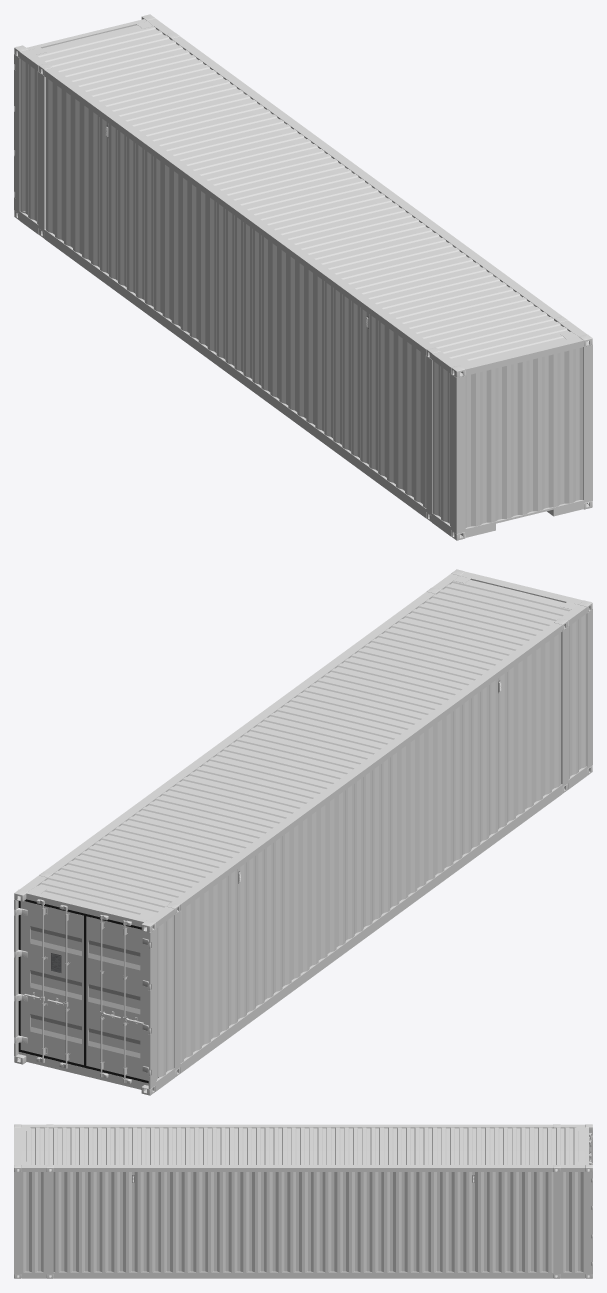
File: Container_45ftHC.fbx
The picture shows the model from 3 angles, top to bottom: view 1: azimuth 30°, elevation 25°; view 2: azimuth 150°, elevation 25°; view 3: azimuth 270°, elevation 25°; orthographic projection. The views are drawn at different scales.
Visible parts, largest first — view 1: Body_Wall_Xn, Body_Roof, Body_Wall_Yn, Rail_Side_Xn_Top, Rail_Side_Xn_Bottom, Rail_Side_Xp_Top, Post_Corner_XnYn, Post_Corner_XpYn, Rail_End_Yn_Top, Post_Intermediate_XnYp, Post_Intermediate_XnYn, Post_Corner_XnYp (+1 smaller); view 2: Body_Wall_Xn, Body_Roof, Door_L, Door_R, Rail_Side_Xn_Top, Rail_Side_Xn_Bottom, Rail_Side_Xp_Top, Post_Intermediate_XnYn, Post_Corner_XnYp, Post_Intermediate_XnYp, Post_Corner_XnYn, Rail_End_Yp_Top (+4 smaller); view 3: Body_Wall_Xp, Body_Roof, Rail_Side_Xp_Bottom, Rail_Side_Xp_Top, Rail_Side_Xn_Top, Post_Corner_XpYn, Post_Intermediate_XpYn, Post_Intermediate_XpYp, Post_Corner_XpYp, Rail_End_Yn_Top.
Part boxes in pixels (bbox=[...]): Body_Wall_Xn: bbox=[20, 59, 450, 526]; Body_Roof: bbox=[36, 25, 570, 362]; Body_Wall_Yn: bbox=[465, 347, 583, 528]; Rail_Side_Xn_Top: bbox=[19, 49, 459, 373]; Rail_Side_Xn_Bottom: bbox=[19, 211, 451, 536]; Rail_Side_Xp_Top: bbox=[147, 18, 586, 336]; Post_Corner_XnYn: bbox=[451, 374, 465, 533]; Post_Corner_XpYn: bbox=[583, 344, 592, 502]; Rail_End_Yn_Top: bbox=[460, 336, 583, 375]; Post_Intermediate_XnYp: bbox=[38, 72, 45, 231]; Post_Intermediate_XnYn: bbox=[426, 356, 432, 515]; Post_Corner_XnYp: bbox=[14, 54, 20, 213]; Body_Wall_Xn: bbox=[156, 614, 586, 1081]; Body_Roof: bbox=[36, 579, 570, 916]; Door_L: bbox=[86, 916, 148, 1080]; Door_R: bbox=[20, 901, 83, 1064]; Rail_Side_Xn_Top: bbox=[147, 604, 587, 928]; Rail_Side_Xn_Bottom: bbox=[155, 766, 587, 1091]; Rail_Side_Xp_Top: bbox=[20, 573, 459, 891]; Post_Intermediate_XnYn: bbox=[561, 627, 568, 786]; Post_Corner_XnYp: bbox=[148, 929, 155, 1088]; Post_Intermediate_XnYp: bbox=[174, 911, 180, 1070]; Post_Corner_XnYn: bbox=[586, 609, 592, 768]; Rail_End_Yp_Top: bbox=[26, 891, 146, 927]; Body_Wall_Xp: bbox=[21, 1172, 585, 1272]; Body_Roof: bbox=[21, 1127, 584, 1164]; Rail_Side_Xp_Bottom: bbox=[21, 1271, 585, 1278]; Rail_Side_Xp_Top: bbox=[21, 1165, 585, 1171]; Rail_Side_Xn_Top: bbox=[21, 1124, 585, 1128]; Post_Corner_XpYn: bbox=[14, 1172, 21, 1274]; Post_Intermediate_XpYn: bbox=[46, 1172, 53, 1274]; Post_Intermediate_XpYp: bbox=[553, 1172, 560, 1274]; Post_Corner_XpYp: bbox=[585, 1172, 592, 1274]; Rail_End_Yn_Top: bbox=[14, 1127, 21, 1164].
Size of the model in its own units: 57.14 by 10.16 by 12.07.
